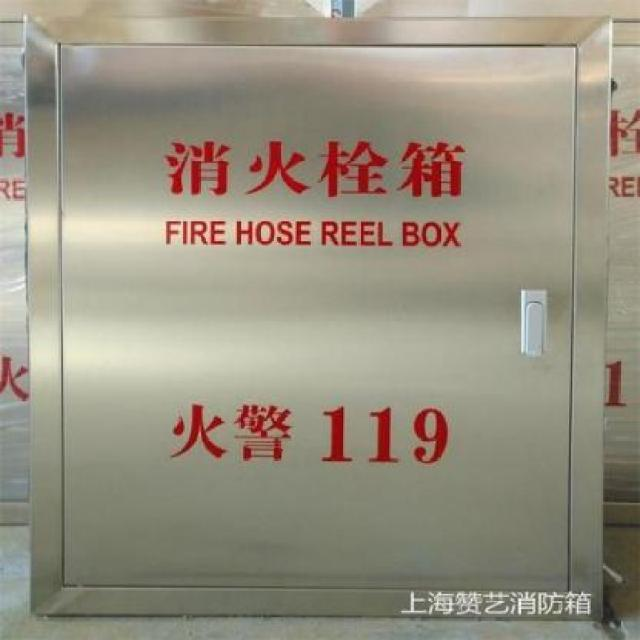firehydrant: (20, 11, 615, 626)
